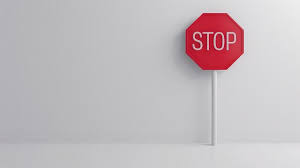stop sign: (185, 12, 245, 71)
